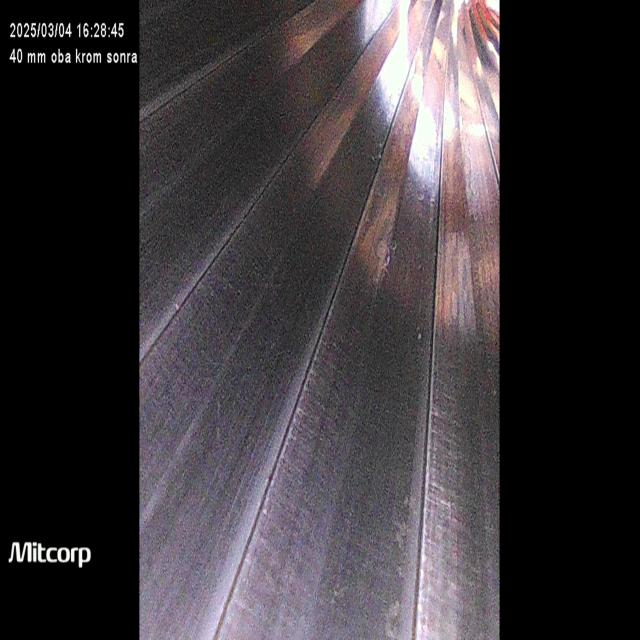hata_4.2: (385, 462, 426, 640)
